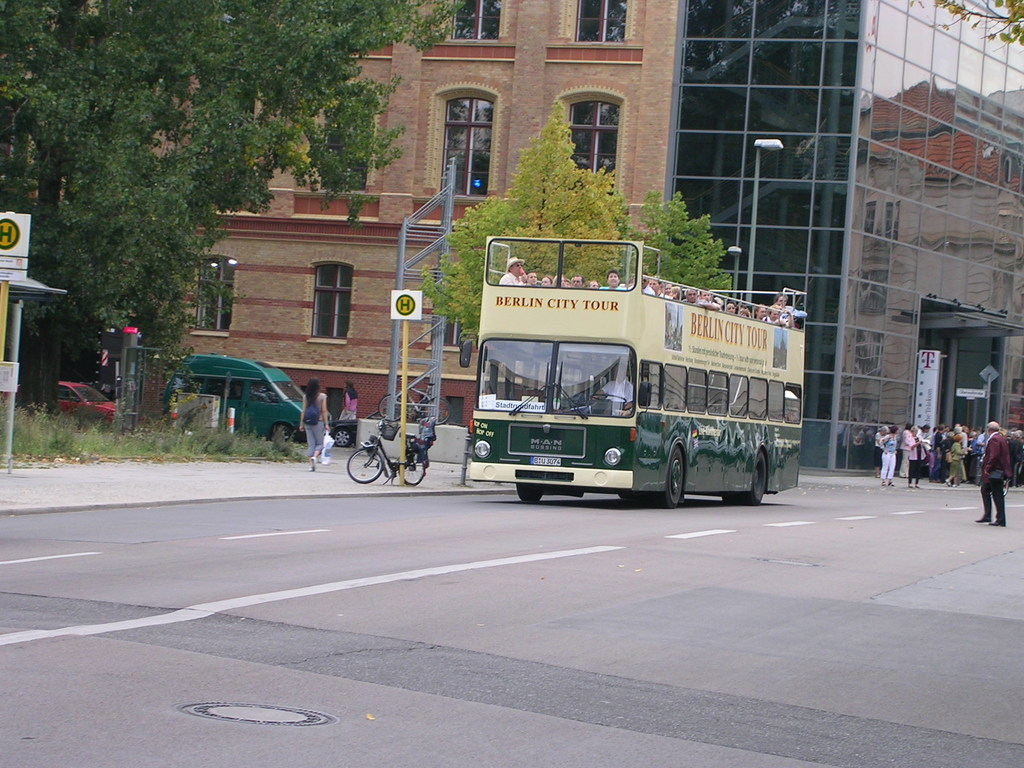Bus: (466, 235, 807, 506)
